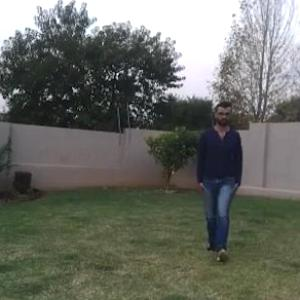follow: (193, 101, 244, 257)
